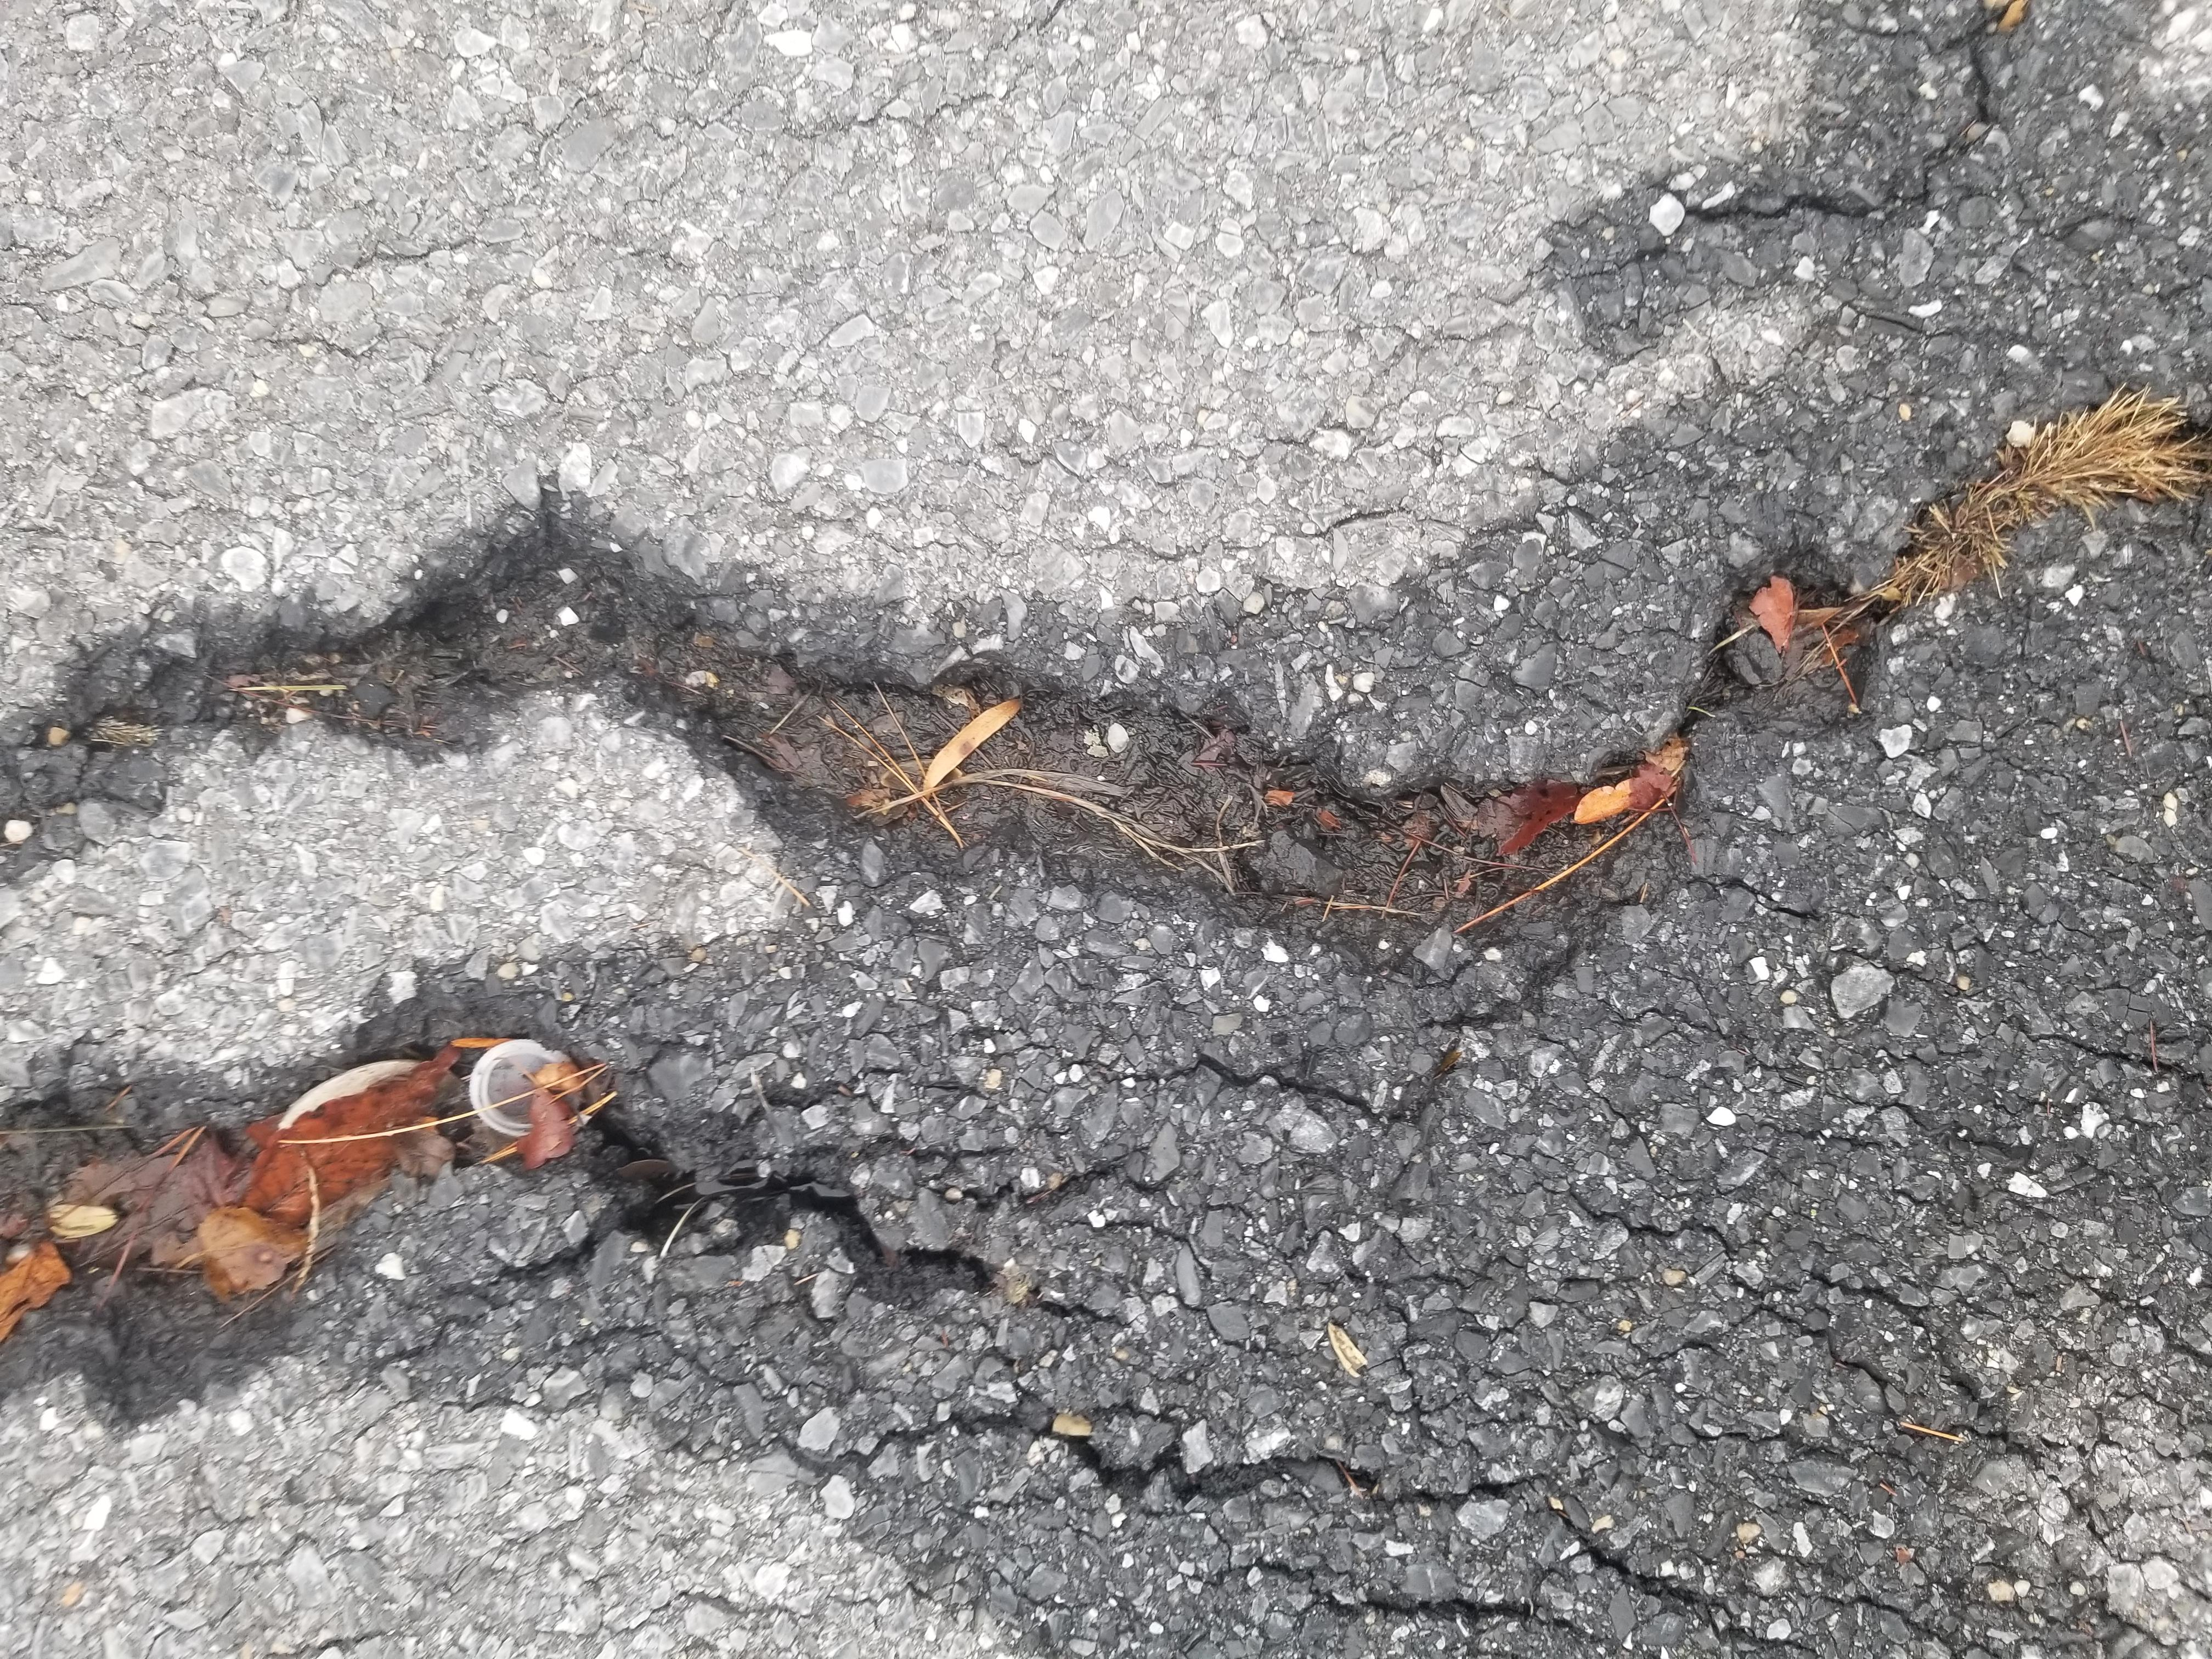crack: (0, 631, 355, 1319), (1864, 1239, 2210, 1520), (460, 479, 740, 786)
pothole: (923, 87, 1583, 1450)
